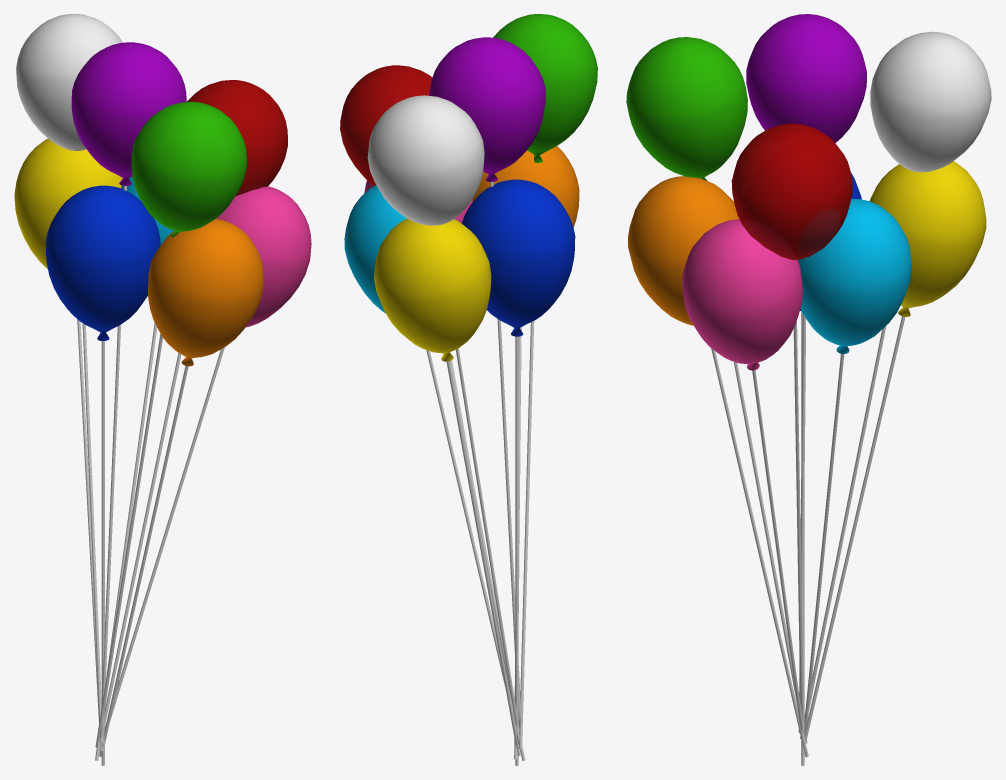
Rendered from balloonz.fbx.
The picture shows the model from 3 angles, left to right: view 1: azimuth 30°, elevation 25°; view 2: azimuth 150°, elevation 25°; view 3: azimuth 270°, elevation 25°; orthographic projection. The views are drawn at different scales.
Parts seen in each view (by area): view 1: polySurface8; view 2: polySurface8; view 3: polySurface8.
Part boxes in pixels (bbox=[...]): polySurface8: bbox=[14, 14, 311, 765]; polySurface8: bbox=[340, 14, 597, 765]; polySurface8: bbox=[626, 14, 991, 765].
Bounding box in the file's own units: 0.2506 × 0.7608 × 0.3313.
